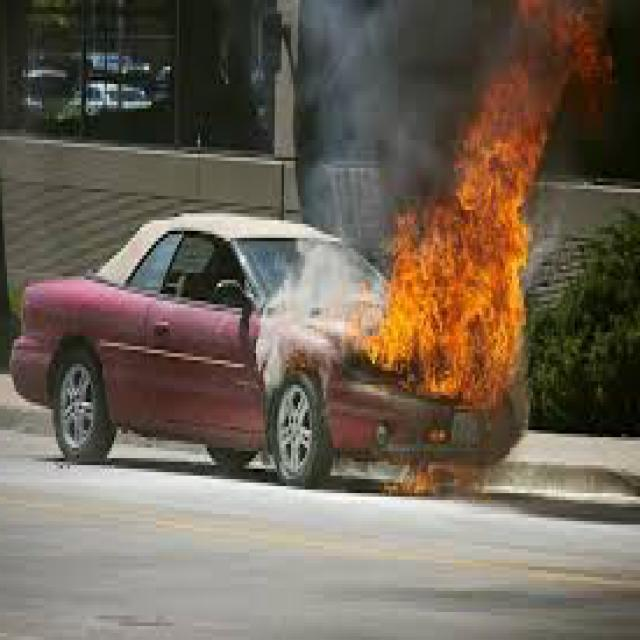Fire: (358, 13, 602, 477)
Smoke: (253, 0, 469, 348)
